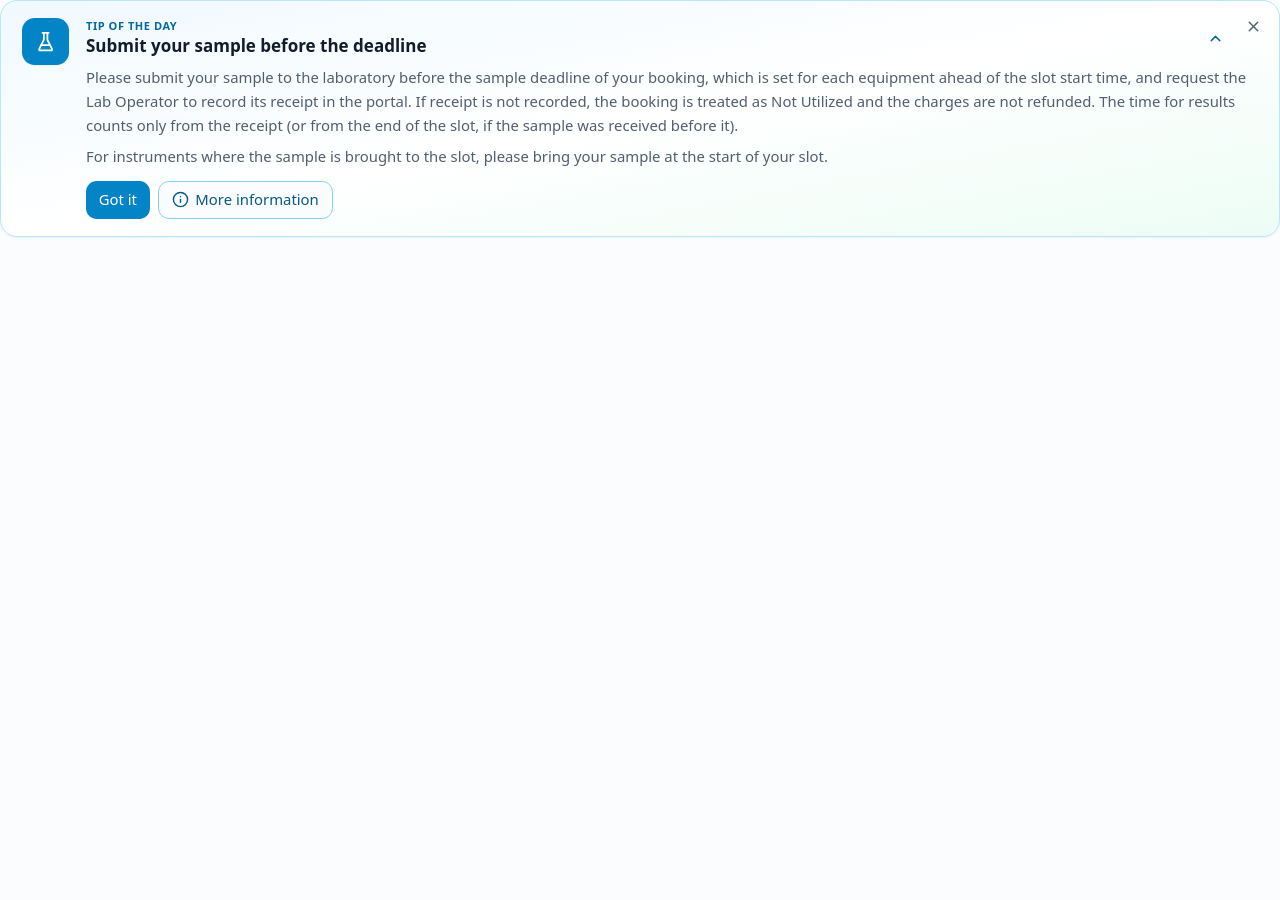
it: LoginTipCard › More information opens the full policy with the exception list and a worked example
Click the button "More information".
click(245, 200)  # box [158,181,332,219]
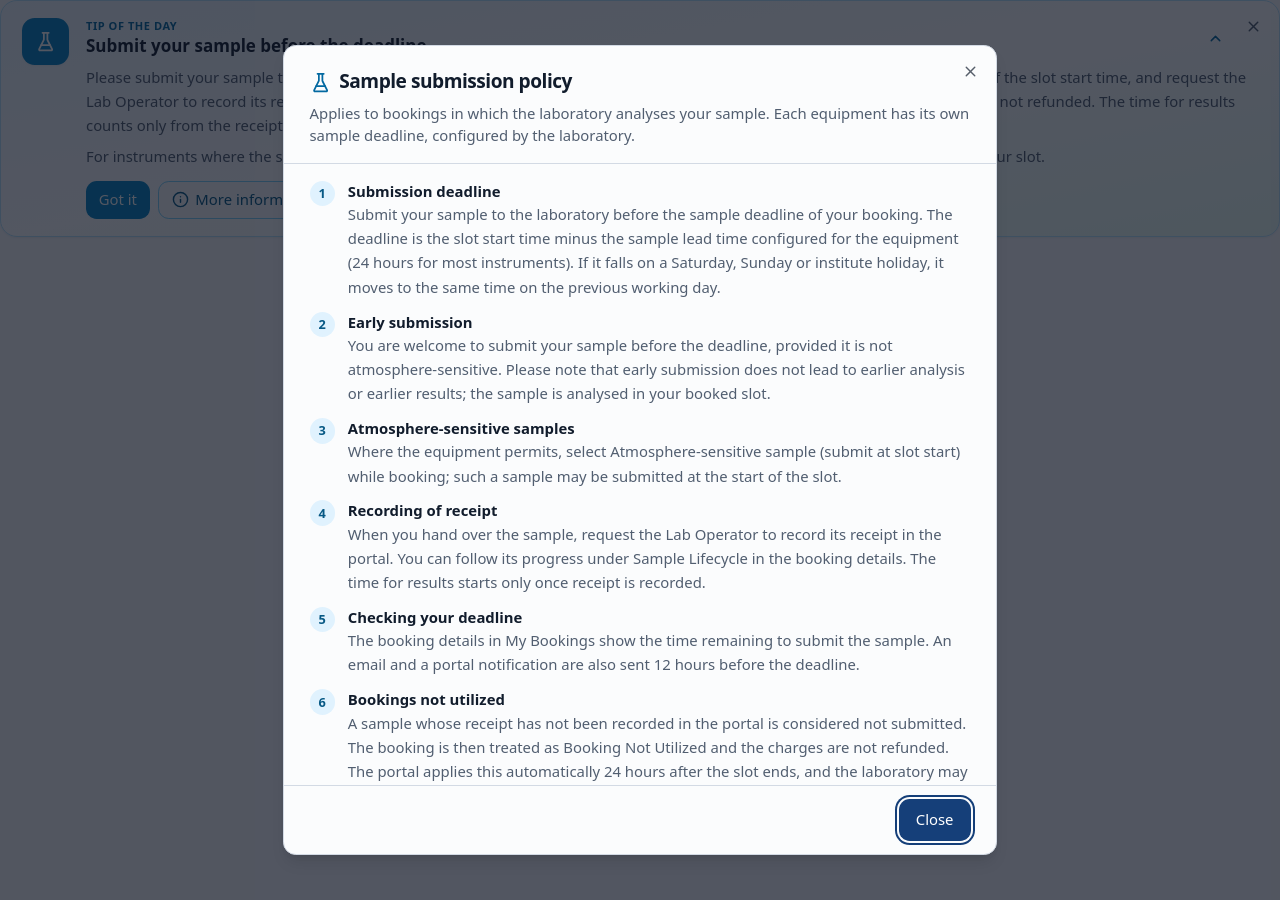
Check: the dialog "Sample submission policy" shows "(24 hours for most instruments)", box [348,204,959,297]
Check: the dialog "Sample submission policy" shows "moves to the same time on the previous working day", box [348,204,959,297]
Click the button "Close".
click(935, 820)  # box [899,799,970,841]
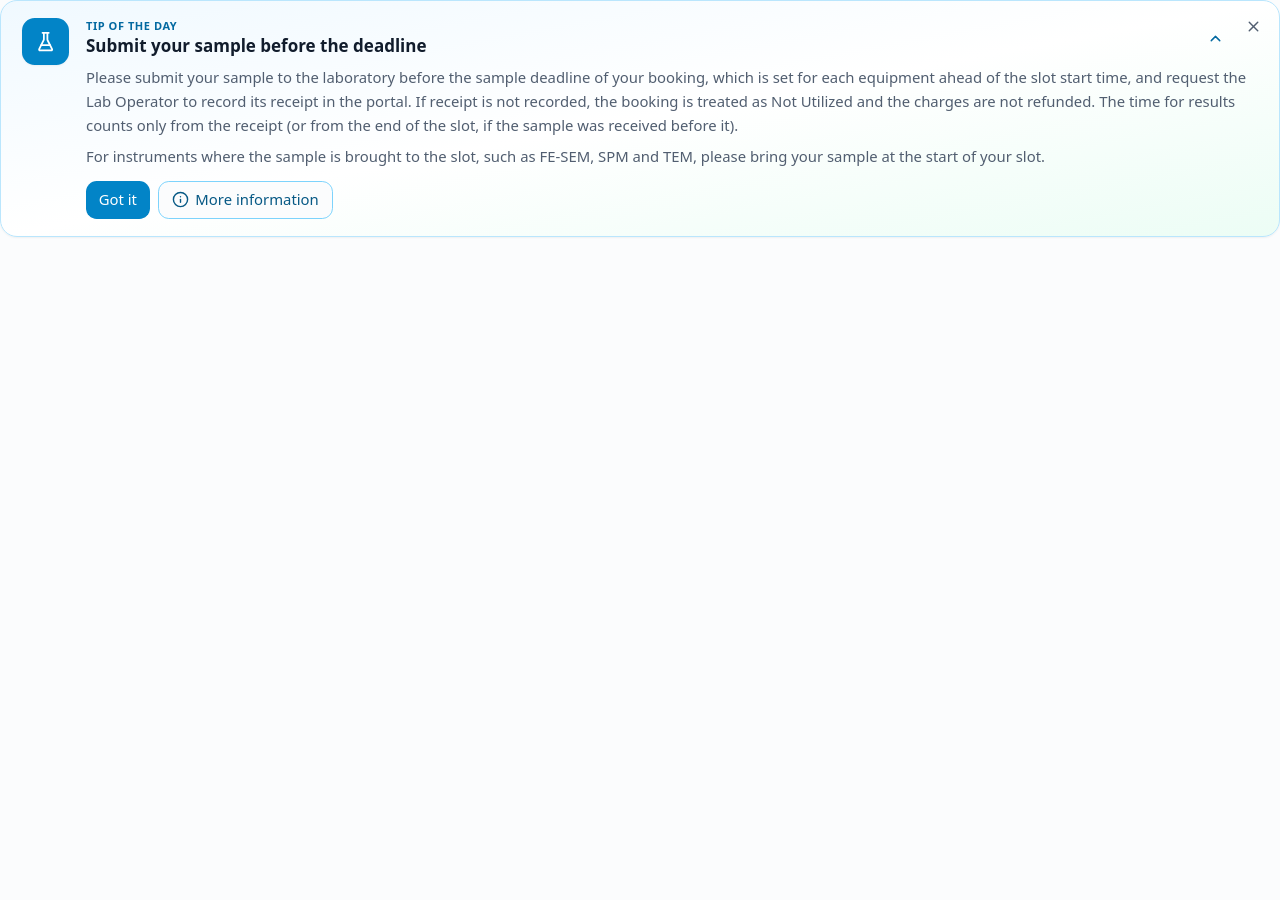
Check: the message with test id "login-tip" is shown, box [0,0,1279,237]
Check: the dialog is gone
